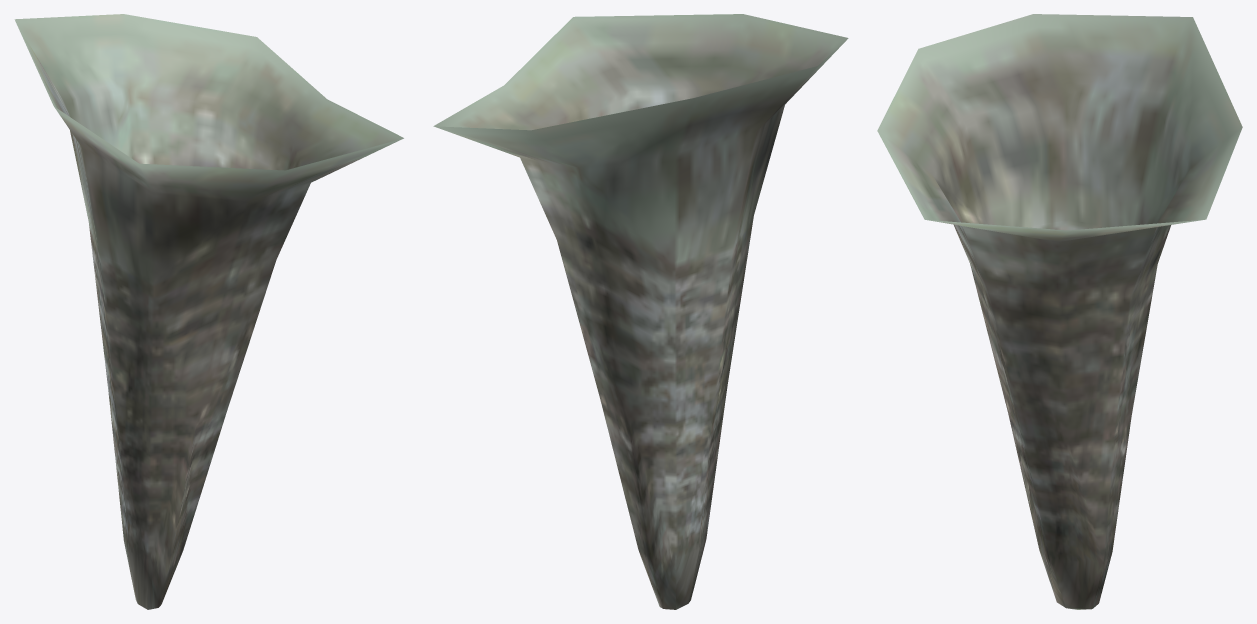
The model's file is TROLLHOLE02_PS-SECRETSTALAG15.fbx.
3 renders of one model, left to right at view 1: azimuth 30°, elevation 25°; view 2: azimuth 150°, elevation 25°; view 3: azimuth 270°, elevation 25°, orthographic. The views are drawn at different scales.
Visible parts, largest first — view 1: TROLLHOLE02_PS-SECRETSTALAG15; view 2: TROLLHOLE02_PS-SECRETSTALAG15; view 3: TROLLHOLE02_PS-SECRETSTALAG15.
Boxes of the visible parts, x1=… form: TROLLHOLE02_PS-SECRETSTALAG15: x1=14, y1=14, x2=403, y2=609; TROLLHOLE02_PS-SECRETSTALAG15: x1=433, y1=14, x2=848, y2=609; TROLLHOLE02_PS-SECRETSTALAG15: x1=877, y1=14, x2=1242, y2=609.
Size of the model in its own units: 21056 by 38334 by 22823.
Materials: 1 (1 with a texture image).
